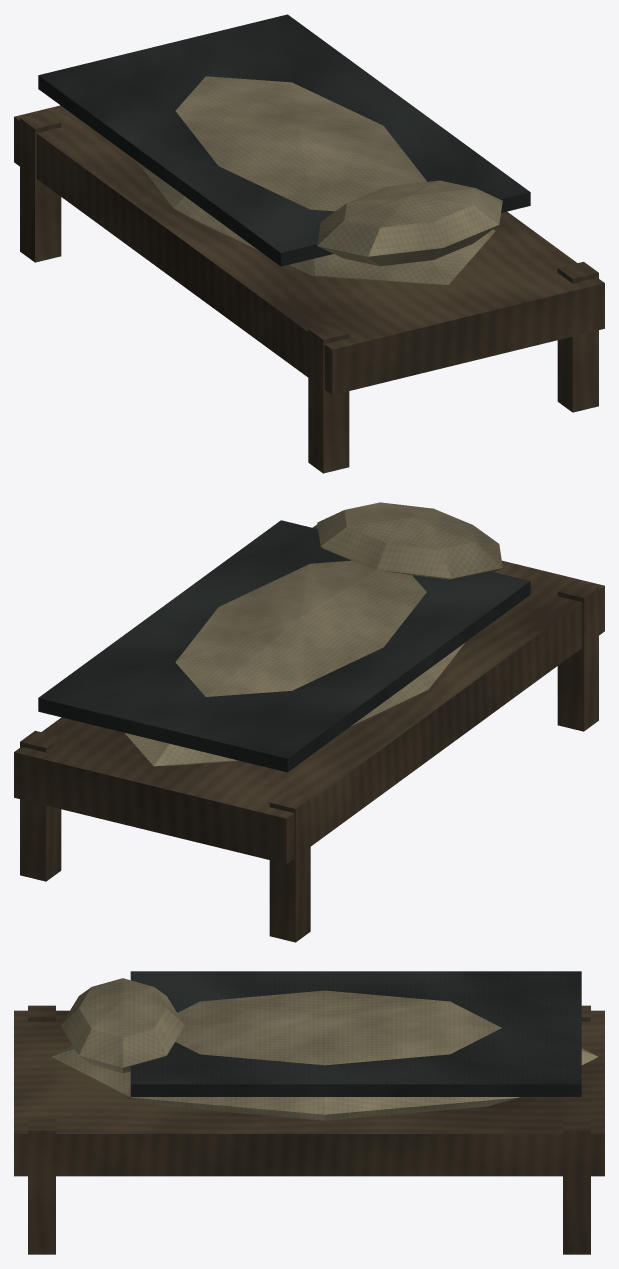
Rendered from Bed_Straw.glb.
The picture shows the model from 3 angles, top to bottom: view 1: azimuth 30°, elevation 25°; view 2: azimuth 150°, elevation 25°; view 3: azimuth 270°, elevation 25°; orthographic projection. The views are drawn at different scales.
Visible parts, largest first — view 1: Bed_Straw; view 2: Bed_Straw; view 3: Bed_Straw.
Boxes of the visible parts, x1,y1,x2,y2 form: Bed_Straw: (14, 14, 604, 473); Bed_Straw: (14, 502, 604, 942); Bed_Straw: (14, 971, 604, 1254).
Bounding box in the file's own units: 0.95 × 0.68 × 1.9.
Materials: 3 (3 with a texture image).
